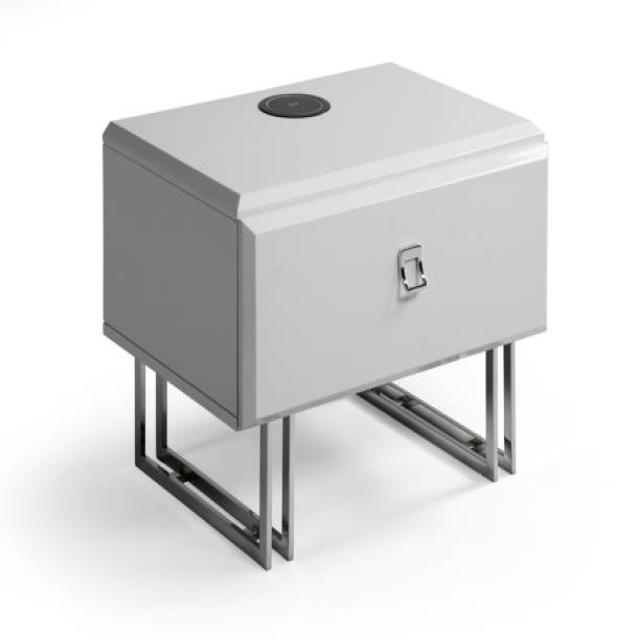table: (100, 58, 549, 568)
